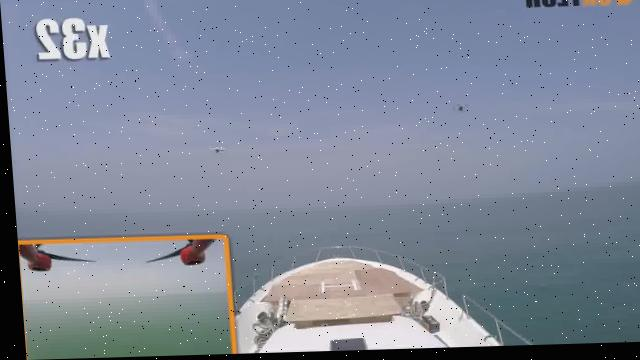drone: (202, 141, 231, 163), (446, 100, 470, 121)
